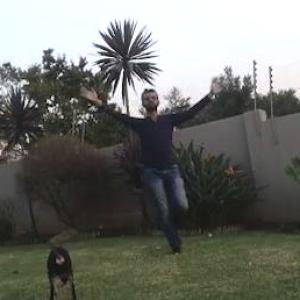takeoff: (96, 84, 216, 231)
